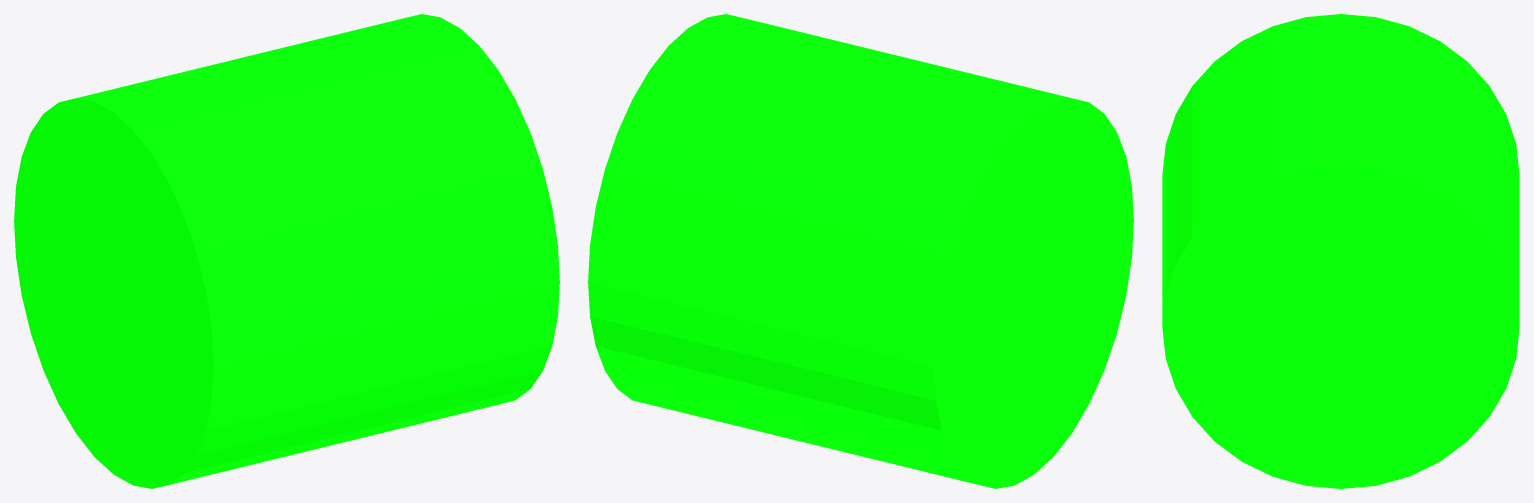
File: UnitCylinderGreen.dae
3 renders of one model, left to right at view 1: azimuth 30°, elevation 25°; view 2: azimuth 150°, elevation 25°; view 3: azimuth 270°, elevation 25°, orthographic. The views are drawn at different scales.
Parts seen in each view (by area): view 1: Cylinder; view 2: Cylinder; view 3: Cylinder.
Part boxes in pixels (bbox=[...]): Cylinder: bbox=[14, 14, 559, 488]; Cylinder: bbox=[588, 14, 1133, 488]; Cylinder: bbox=[1162, 14, 1519, 488].
Size of the model in its own units: 1 by 1 by 1.
